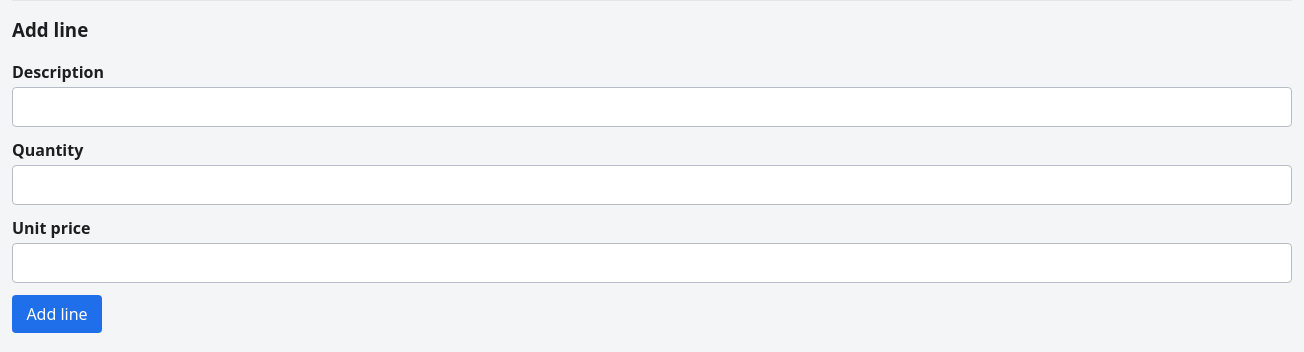
Test case: T-11 OrderLineForm › passes numbers (not strings) for a fractional price and resets the form
Type " Widget " into the field labelled "Description" at (652, 107), box [12,87,1292,127]
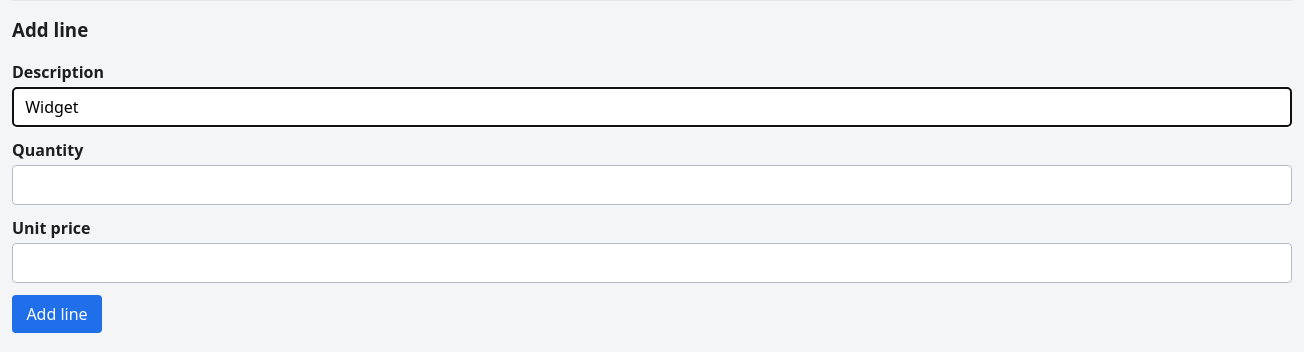
Type "2" into the field labelled "Quantity" at (652, 185), box [12,165,1292,205]
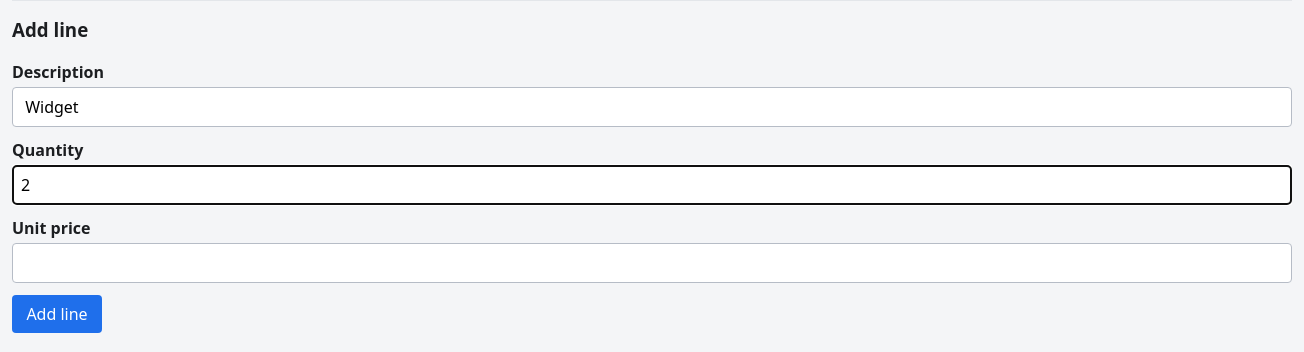
Type "9.99" into the field labelled "Unit price" at (652, 263), box [12,243,1292,283]
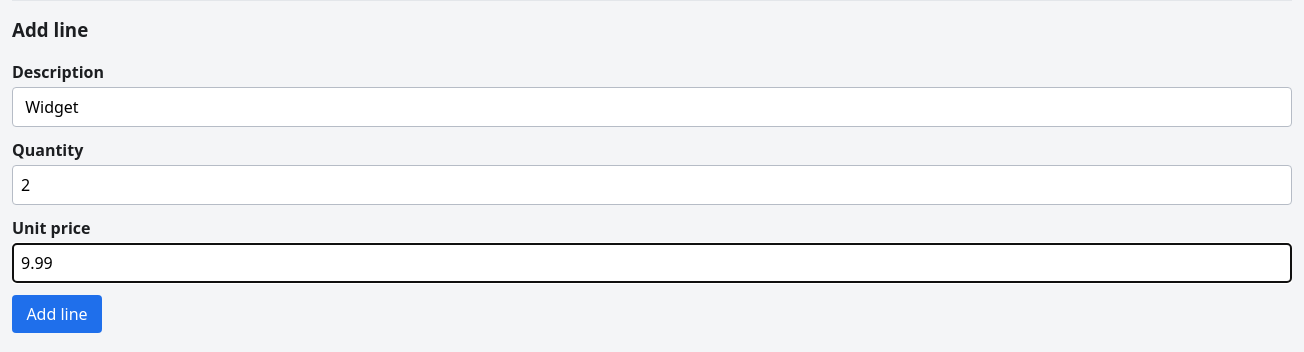
Click the button "Add line" at (57, 314), box [12,295,102,333]
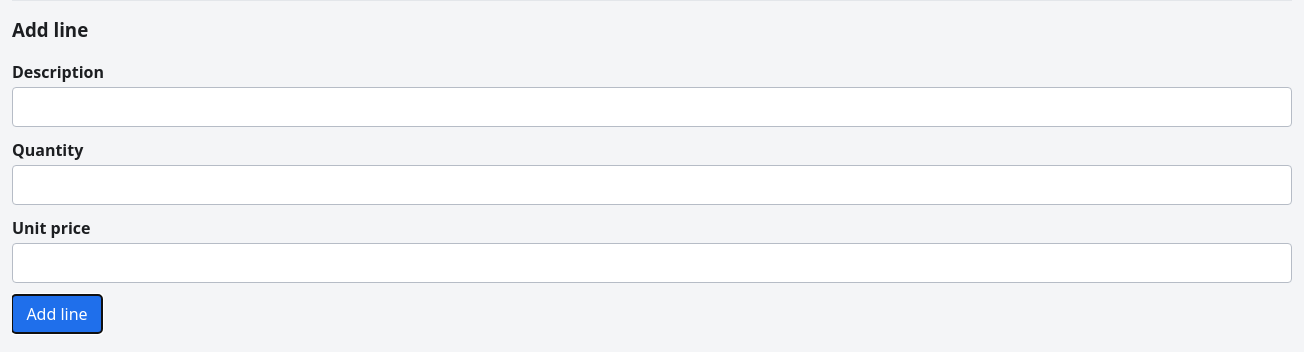
Expected: the field labelled "Description" is empty, [12,87,1292,127]
Expected: the field labelled "Quantity" is empty, [12,165,1292,205]
Expected: the field labelled "Unit price" is empty, [12,243,1292,283]
